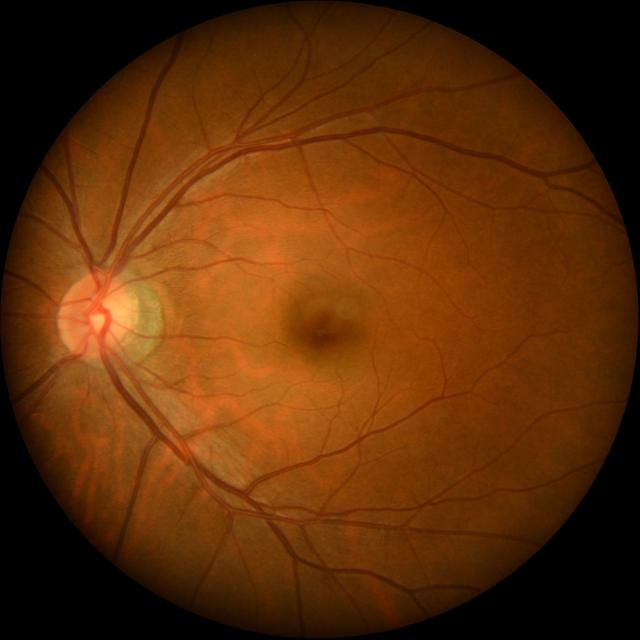OC: (89, 294, 117, 334)
OD: (59, 274, 132, 356)
